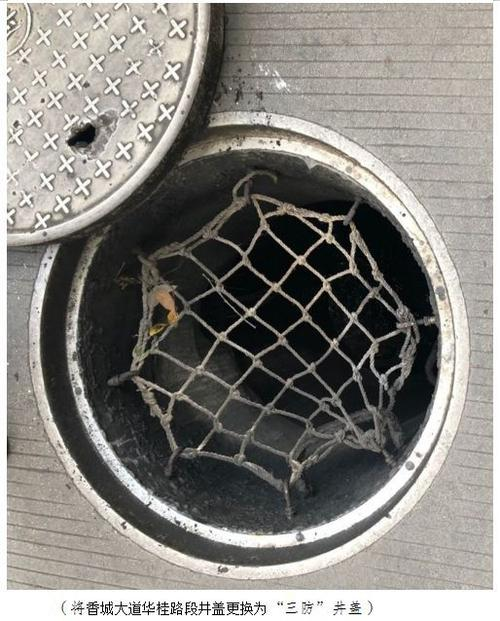uncovered: (13, 5, 474, 567)
